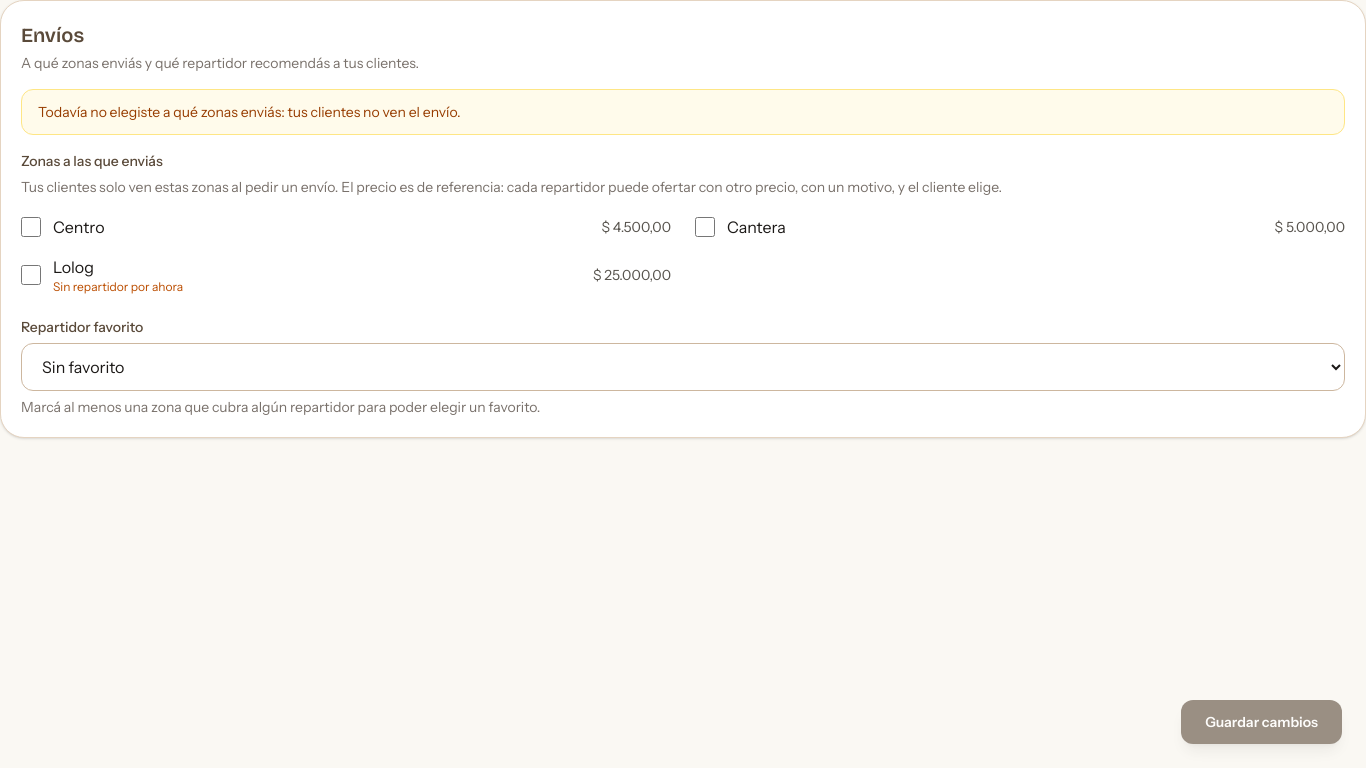
Test: Configuración → Envíos — ENVIO-58 › avisa si el local no tiene ninguna zona tildada y deja de avisar al tildar una — ENVIO-135
Check: the text "Todavía no elegiste a qué zonas enviás: tus clientes no ven el envío." is shown, box x1=21 y1=89 x2=1345 y2=135
Click the checkbox labelled "Cantera $ 5.000,00" at (705, 227), box x1=695 y1=217 x2=715 y2=237
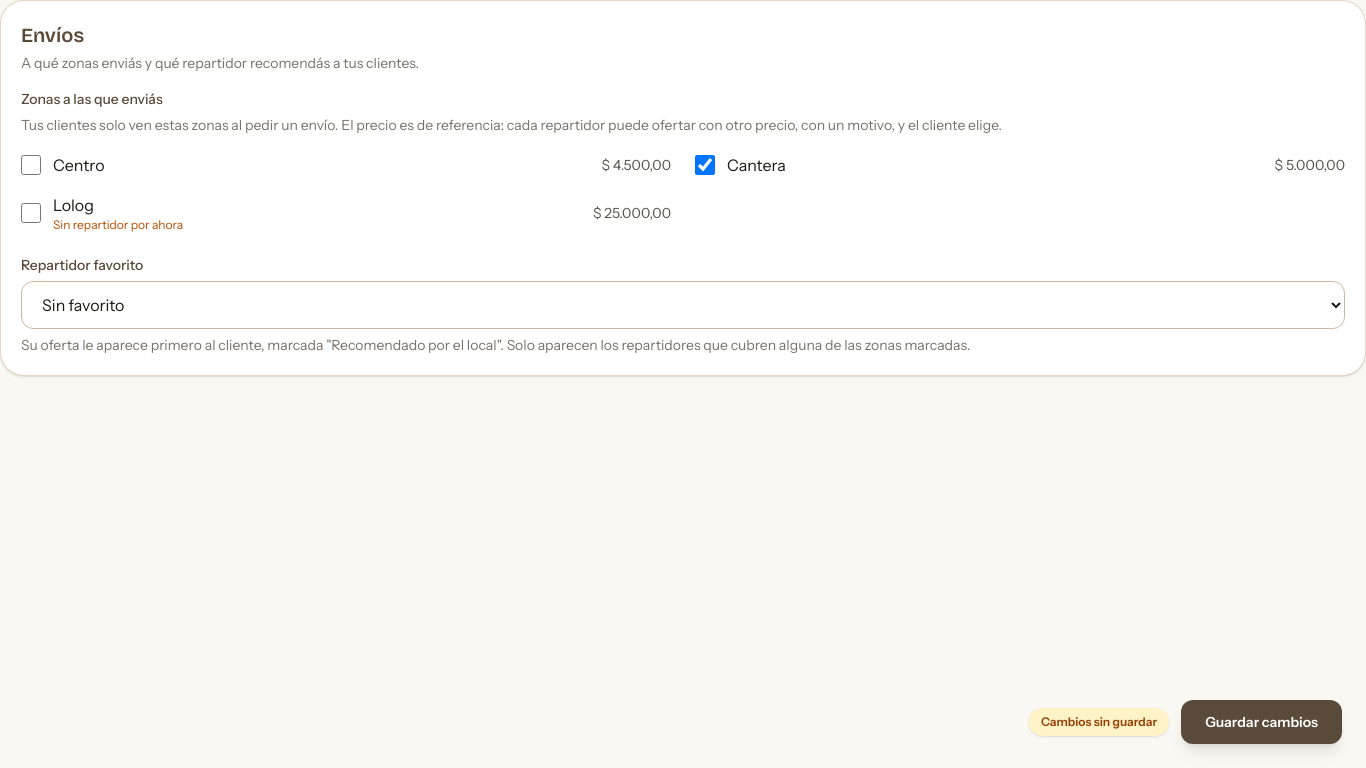
Check: the text "Todavía no elegiste a qué zonas enviás" is gone
